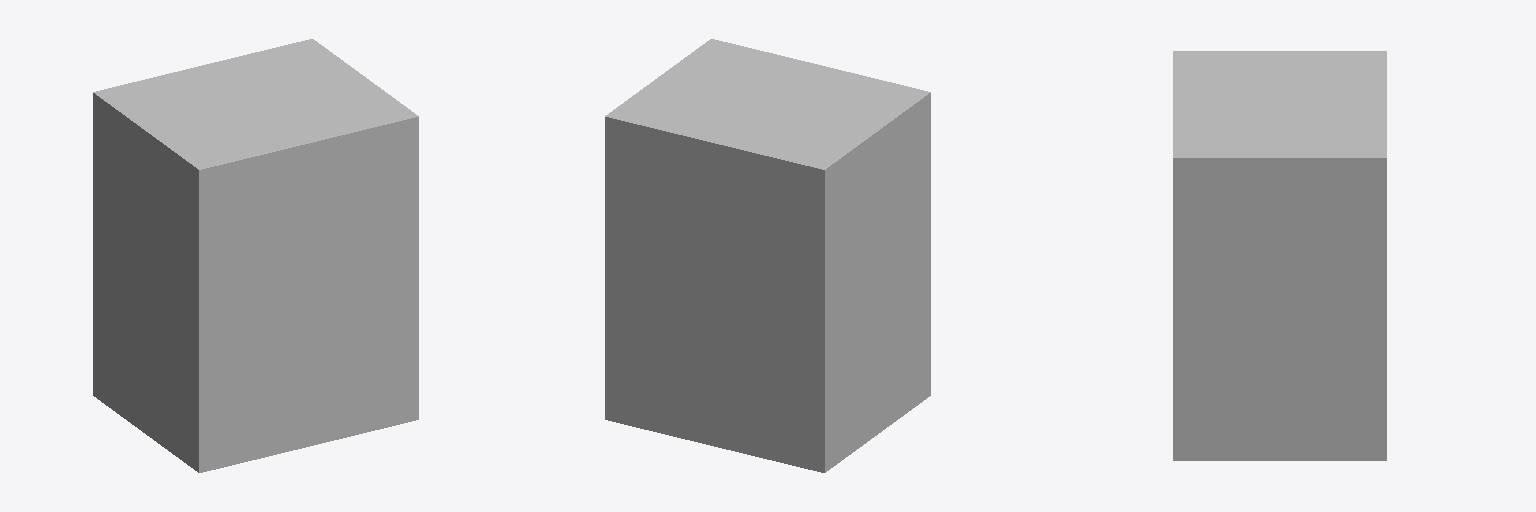
The model's file is chaoCastelo.obj.
3 views of the same model, side by side, from view 1: azimuth 30°, elevation 25°; view 2: azimuth 150°, elevation 25°; view 3: azimuth 270°, elevation 25° (orthographic).
Parts seen in each view (by area): view 1: Cube; view 2: Cube; view 3: Cube.
Boxes of the visible parts, box(x1,y1,x2,y2) form: Cube: box(93, 39, 418, 472); Cube: box(605, 39, 930, 472); Cube: box(1173, 51, 1386, 460).
Bounding box in the file's own units: 30.31 × 39.94 × 25.43.